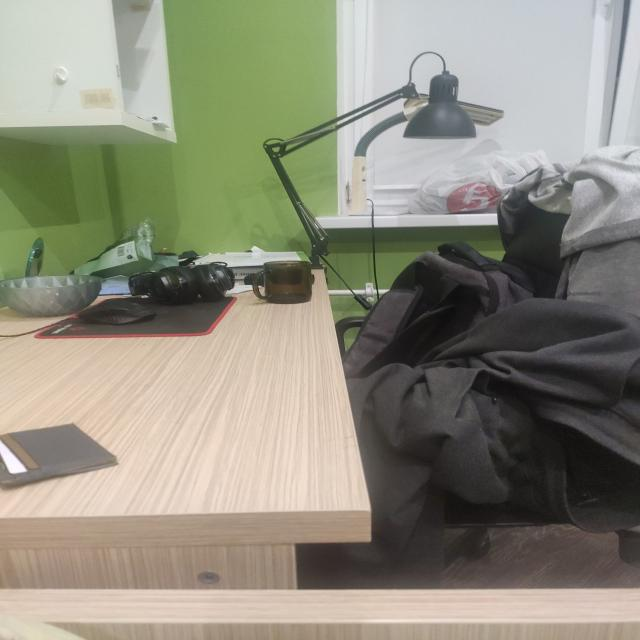cups: (252, 260, 312, 304)
